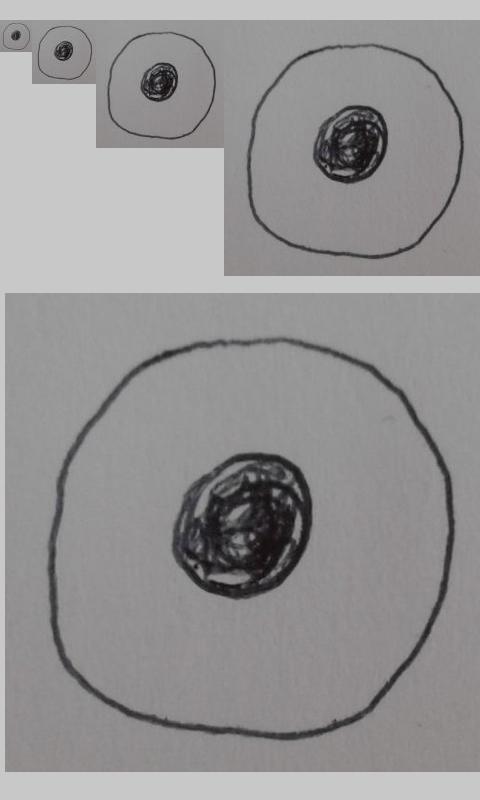radio_button: (47, 333, 458, 742), (243, 40, 466, 262), (106, 30, 217, 140), (37, 25, 94, 81), (2, 22, 31, 51)
